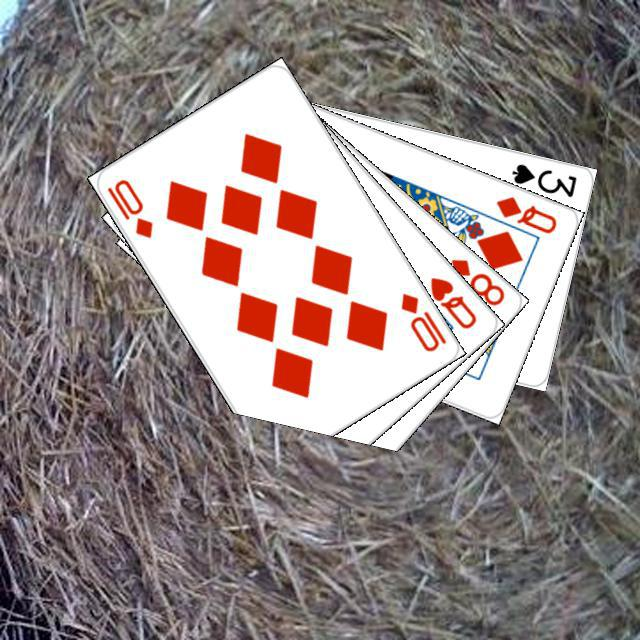10d: (102, 173, 155, 240), (395, 288, 448, 354)
3s: (506, 158, 578, 199)
8d: (445, 253, 507, 308)
Qd: (491, 191, 559, 236)
Qh: (425, 272, 479, 331)
